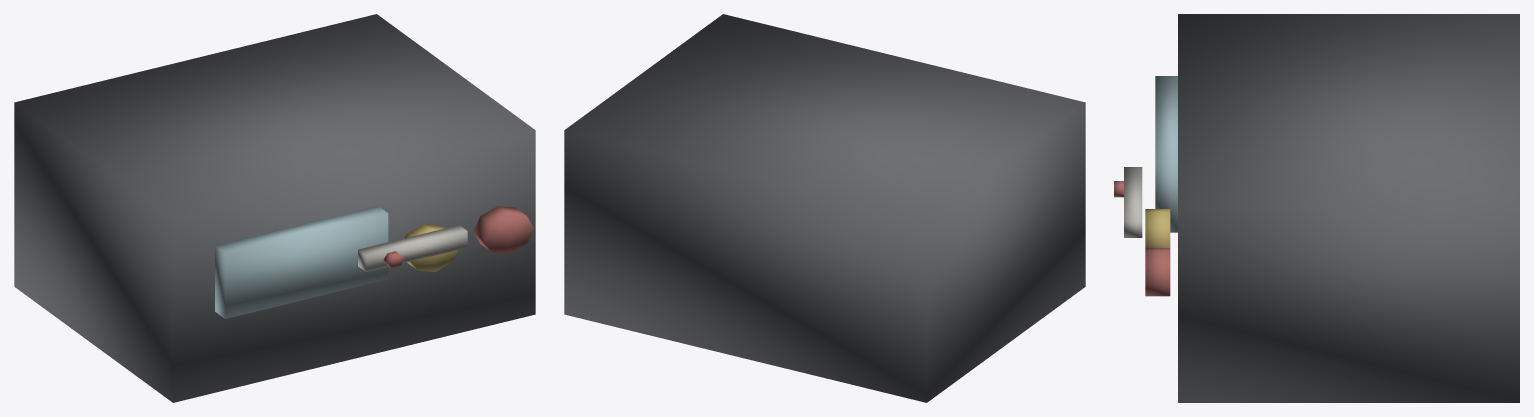
Rendered from bench_power_supply__squat.glb.
The picture shows the model from 3 angles, left to right: view 1: azimuth 30°, elevation 25°; view 2: azimuth 150°, elevation 25°; view 3: azimuth 270°, elevation 25°; orthographic projection. The views are drawn at different scales.
Visible parts, largest first — view 1: world; view 2: world; view 3: world.
Boxes of the visible parts, x1=… form: world: x1=14, y1=14, x2=535, y2=402; world: x1=564, y1=14, x2=1085, y2=402; world: x1=1114, y1=14, x2=1519, y2=402.
Size of the model in its own units: 0.484 by 0.2352 by 0.4358.
